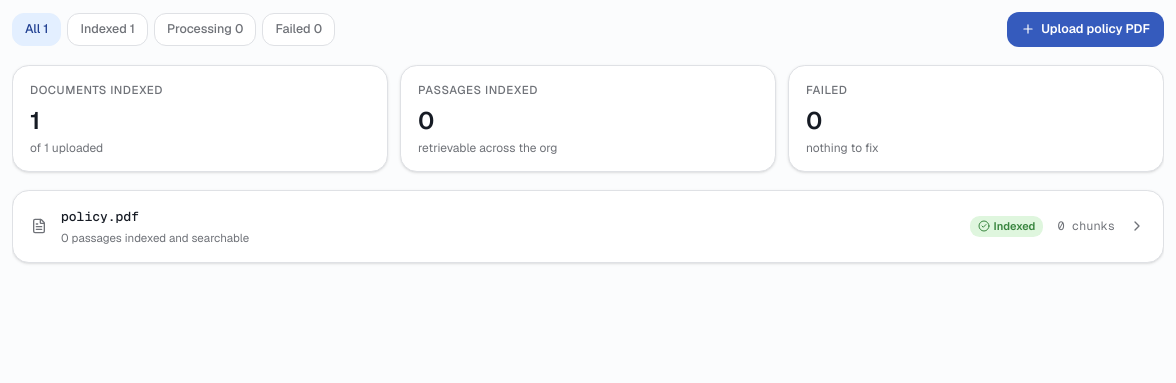
PolicyList › renders the filter-empty state when a filter yields nothing
Click the button "Failed 0": (299, 29) left=262, top=13, right=335, bottom=46
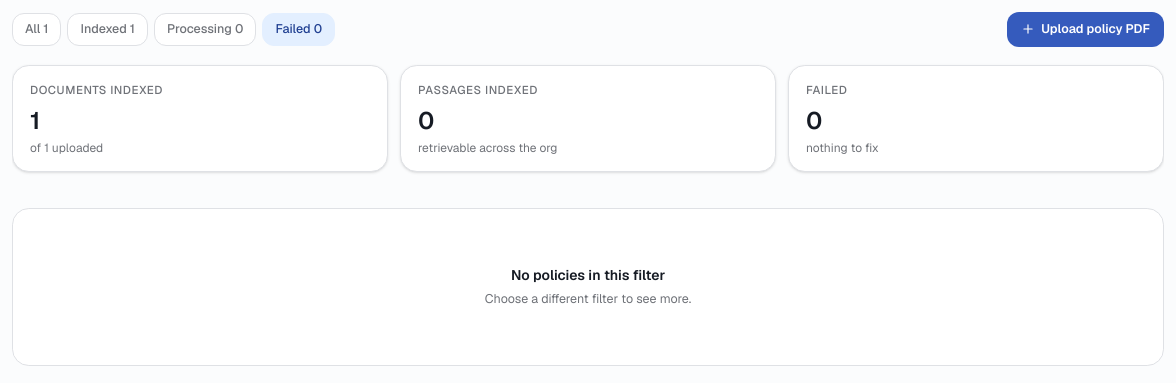
expect the text "No policies in this filter" is shown: met, box left=511, top=266, right=665, bottom=284
